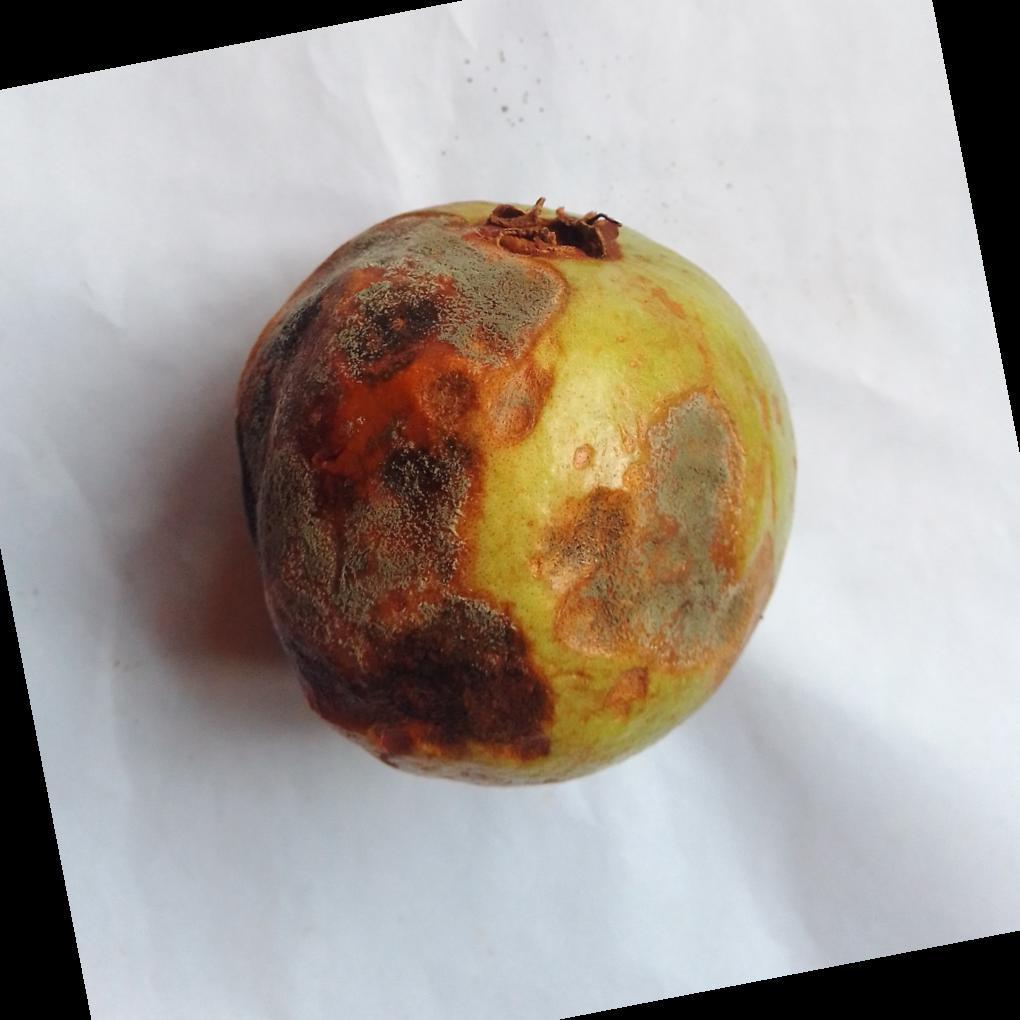FreshOrange: (232, 201, 799, 792)
